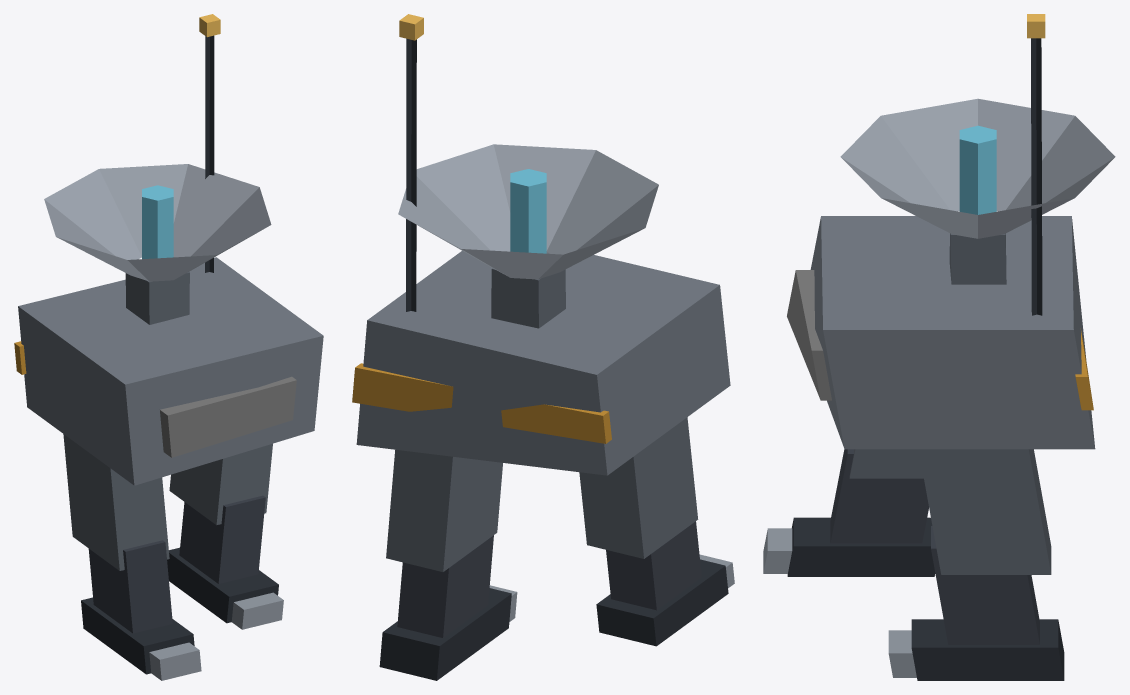
Rendered from hound-walk-5.obj.
3 views of the same model, side by side, from view 1: azimuth 30°, elevation 25°; view 2: azimuth 150°, elevation 25°; view 3: azimuth 270°, elevation 25° (orthographic). The views are drawn at different scales.
Parts seen in each view (by area): view 1: hound-walk-5; view 2: hound-walk-5; view 3: hound-walk-5.
Part boxes in pixels (x1,y1,x2,y2): hound-walk-5: (14, 14, 323, 680); hound-walk-5: (352, 14, 734, 680); hound-walk-5: (763, 14, 1115, 680).
Bounding box in the file's own units: 0.92 × 2.36 × 1.15.
